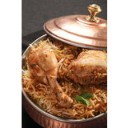briyani: (25, 37, 109, 118)
